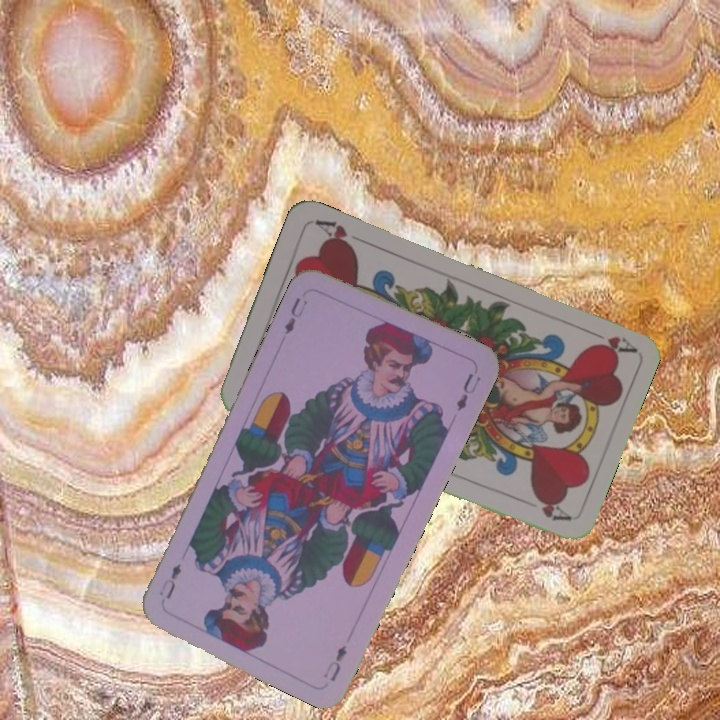EU: (319, 641, 350, 684), (280, 293, 310, 337)
HA: (580, 324, 637, 357)
